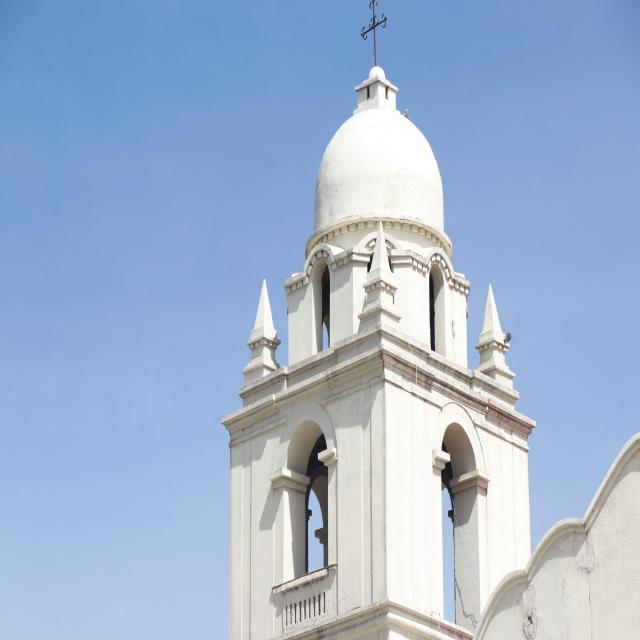CAMPANARIO: (194, 342, 568, 640)
CUPULA: (247, 50, 498, 358)
colonial-architecture-: (123, 3, 585, 640)
